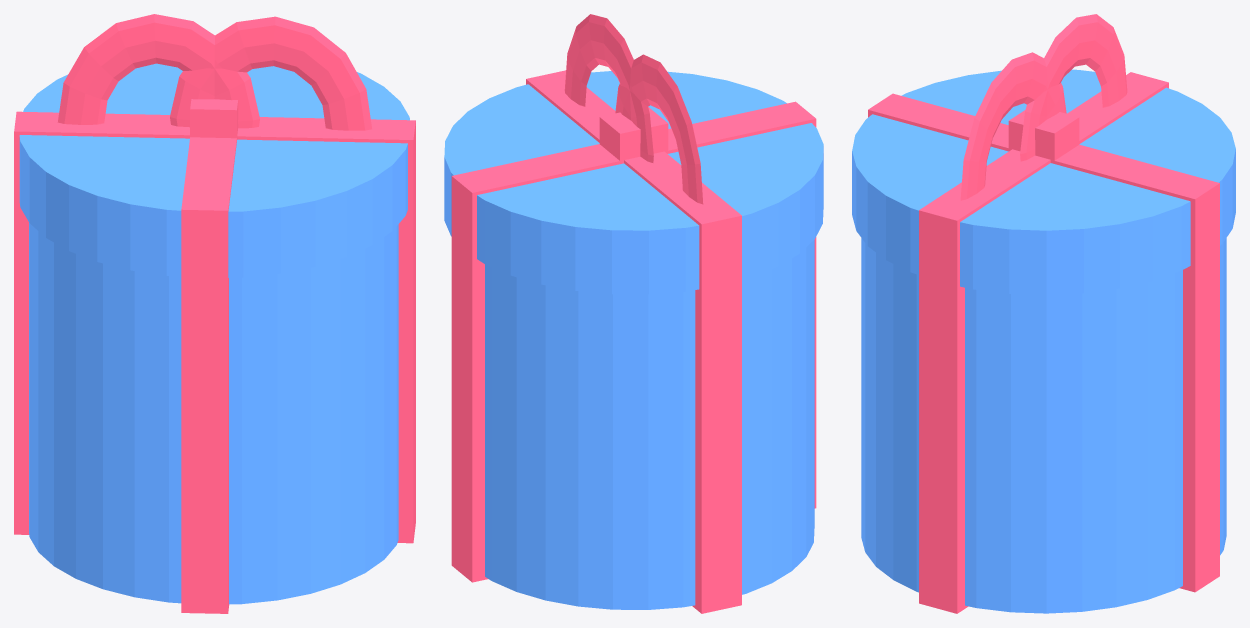
The model's file is Tmpl_Round_Root_207.glb.
The picture shows the model from 3 angles, left to right: view 1: azimuth 30°, elevation 25°; view 2: azimuth 150°, elevation 25°; view 3: azimuth 270°, elevation 25°; orthographic projection. The views are drawn at different scales.
Parts seen in each view (by area): view 1: Tmpl_Round_Base.205, Tmpl_Round_Lid.205, Tmpl_Round_Ribbon_Y.205, Tmpl_Round_Ribbon_X.205, Tmpl_Round_BowR.205, Tmpl_Round_BowL.205, Tmpl_Round_BowKnot.205; view 2: Tmpl_Round_Base.205, Tmpl_Round_Lid.205, Tmpl_Round_Ribbon_X.205, Tmpl_Round_Ribbon_Y.205, Tmpl_Round_BowL.205, Tmpl_Round_BowR.205, Tmpl_Round_BowKnot.205; view 3: Tmpl_Round_Base.205, Tmpl_Round_Lid.205, Tmpl_Round_Ribbon_X.205, Tmpl_Round_Ribbon_Y.205, Tmpl_Round_BowR.205, Tmpl_Round_BowL.205, Tmpl_Round_BowKnot.205.
Part boxes in pixels (x1=…): Tmpl_Round_Base.205: x1=29, y1=223, x2=398, y2=604; Tmpl_Round_Lid.205: x1=19, y1=63, x2=409, y2=277; Tmpl_Round_Ribbon_Y.205: x1=181, y1=137, x2=237, y2=613; Tmpl_Round_Ribbon_X.205: x1=14, y1=111, x2=415, y2=543; Tmpl_Round_BowR.205: x1=57, y1=14, x2=259, y2=128; Tmpl_Round_BowL.205: x1=170, y1=16, x2=371, y2=130; Tmpl_Round_BowKnot.205: x1=190, y1=99, x2=238, y2=138; Tmpl_Round_Base.205: x1=485, y1=240, x2=814, y2=609; Tmpl_Round_Lid.205: x1=444, y1=71, x2=823, y2=294; Tmpl_Round_Ribbon_X.205: x1=526, y1=70, x2=741, y2=613; Tmpl_Round_Ribbon_Y.205: x1=451, y1=101, x2=816, y2=582; Tmpl_Round_BowL.205: x1=564, y1=14, x2=653, y2=162; Tmpl_Round_BowR.205: x1=615, y1=54, x2=703, y2=204; Tmpl_Round_BowKnot.205: x1=599, y1=107, x2=668, y2=164; Tmpl_Round_Base.205: x1=861, y1=238, x2=1226, y2=613; Tmpl_Round_Lid.205: x1=852, y1=69, x2=1235, y2=295; Tmpl_Round_Ribbon_X.205: x1=919, y1=72, x2=1168, y2=613; Tmpl_Round_Ribbon_Y.205: x1=868, y1=93, x2=1219, y2=592; Tmpl_Round_BowR.205: x1=1020, y1=14, x2=1127, y2=161; Tmpl_Round_BowL.205: x1=960, y1=52, x2=1066, y2=200; Tmpl_Round_BowKnot.205: x1=1008, y1=110, x2=1079, y2=163.
Bounding box in the file's own units: 0.9918 × 1.43 × 0.9918.
